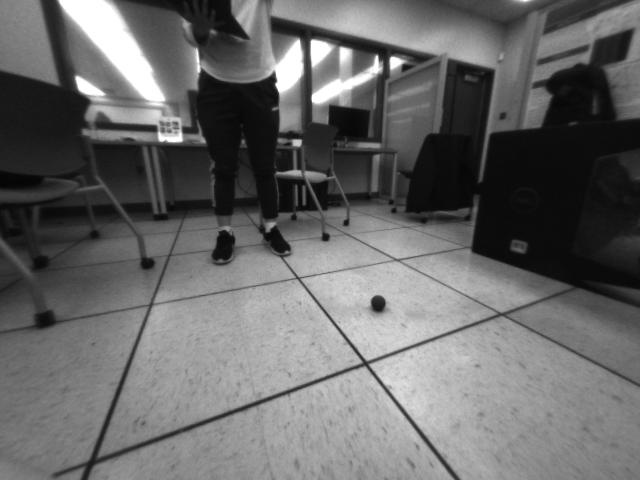dogtoy: (362, 287, 395, 317)
